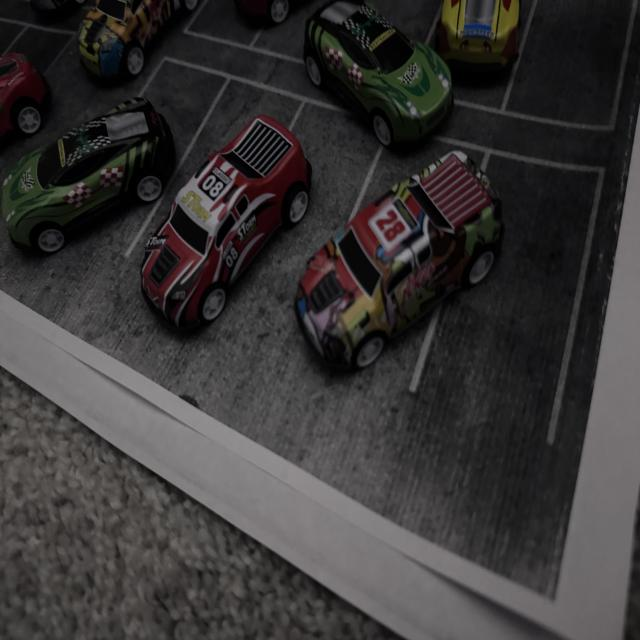Car: (0, 54, 185, 310), (175, 103, 348, 362), (255, 0, 499, 140), (306, 199, 524, 313), (388, 0, 548, 86), (76, 0, 199, 81), (17, 0, 152, 68), (0, 20, 54, 154), (207, 0, 368, 39)
